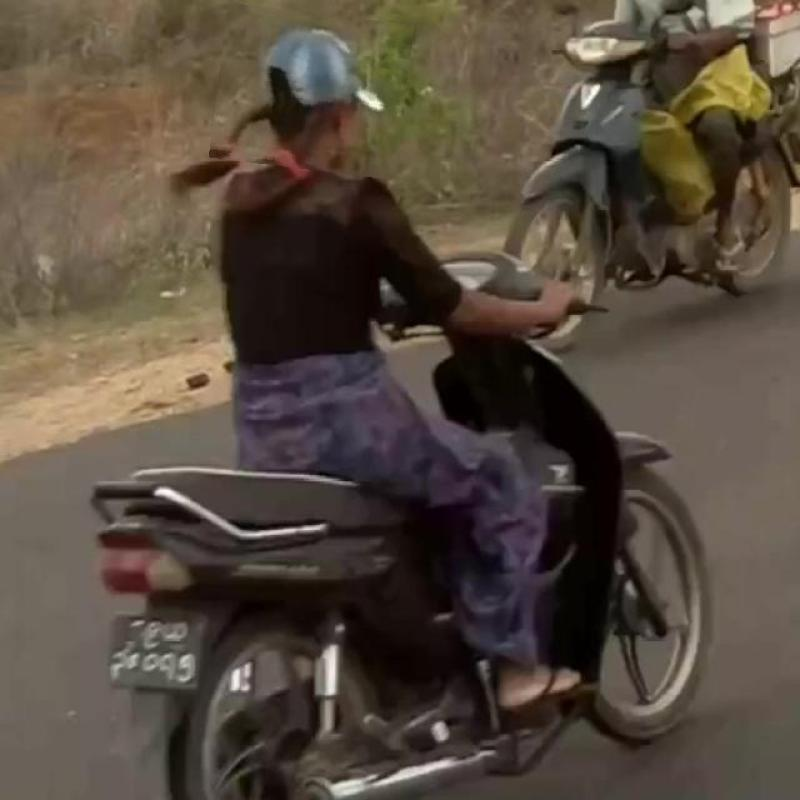nohelmet: (214, 9, 411, 176)
